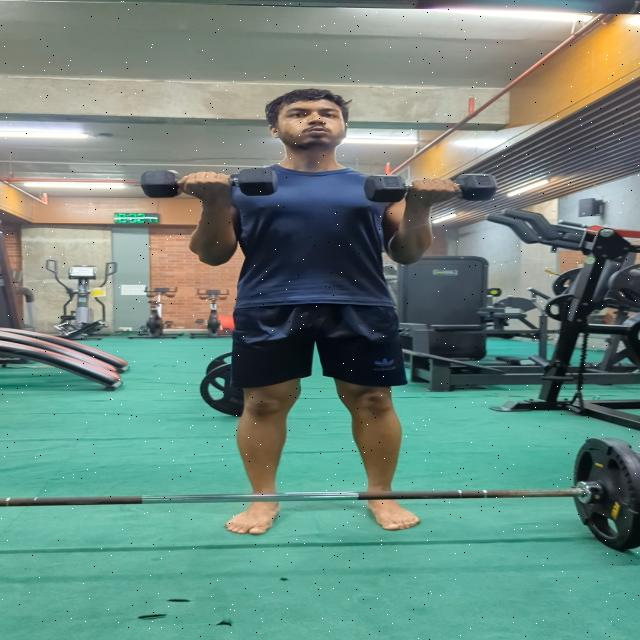Normal_DumbbellBicepCurls: (135, 85, 502, 541)
